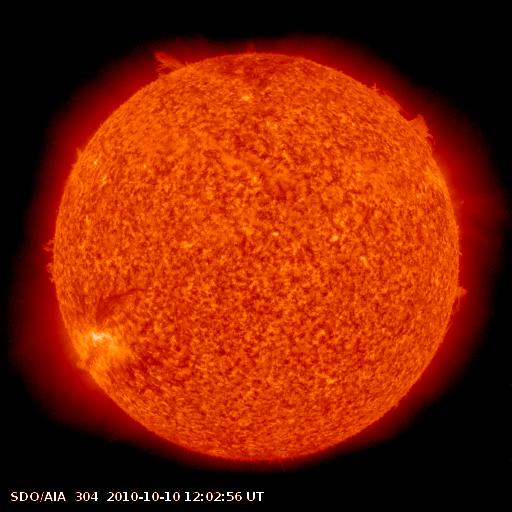prominence: (362, 74, 440, 159), (422, 278, 480, 354), (136, 38, 197, 87), (32, 228, 75, 289)
